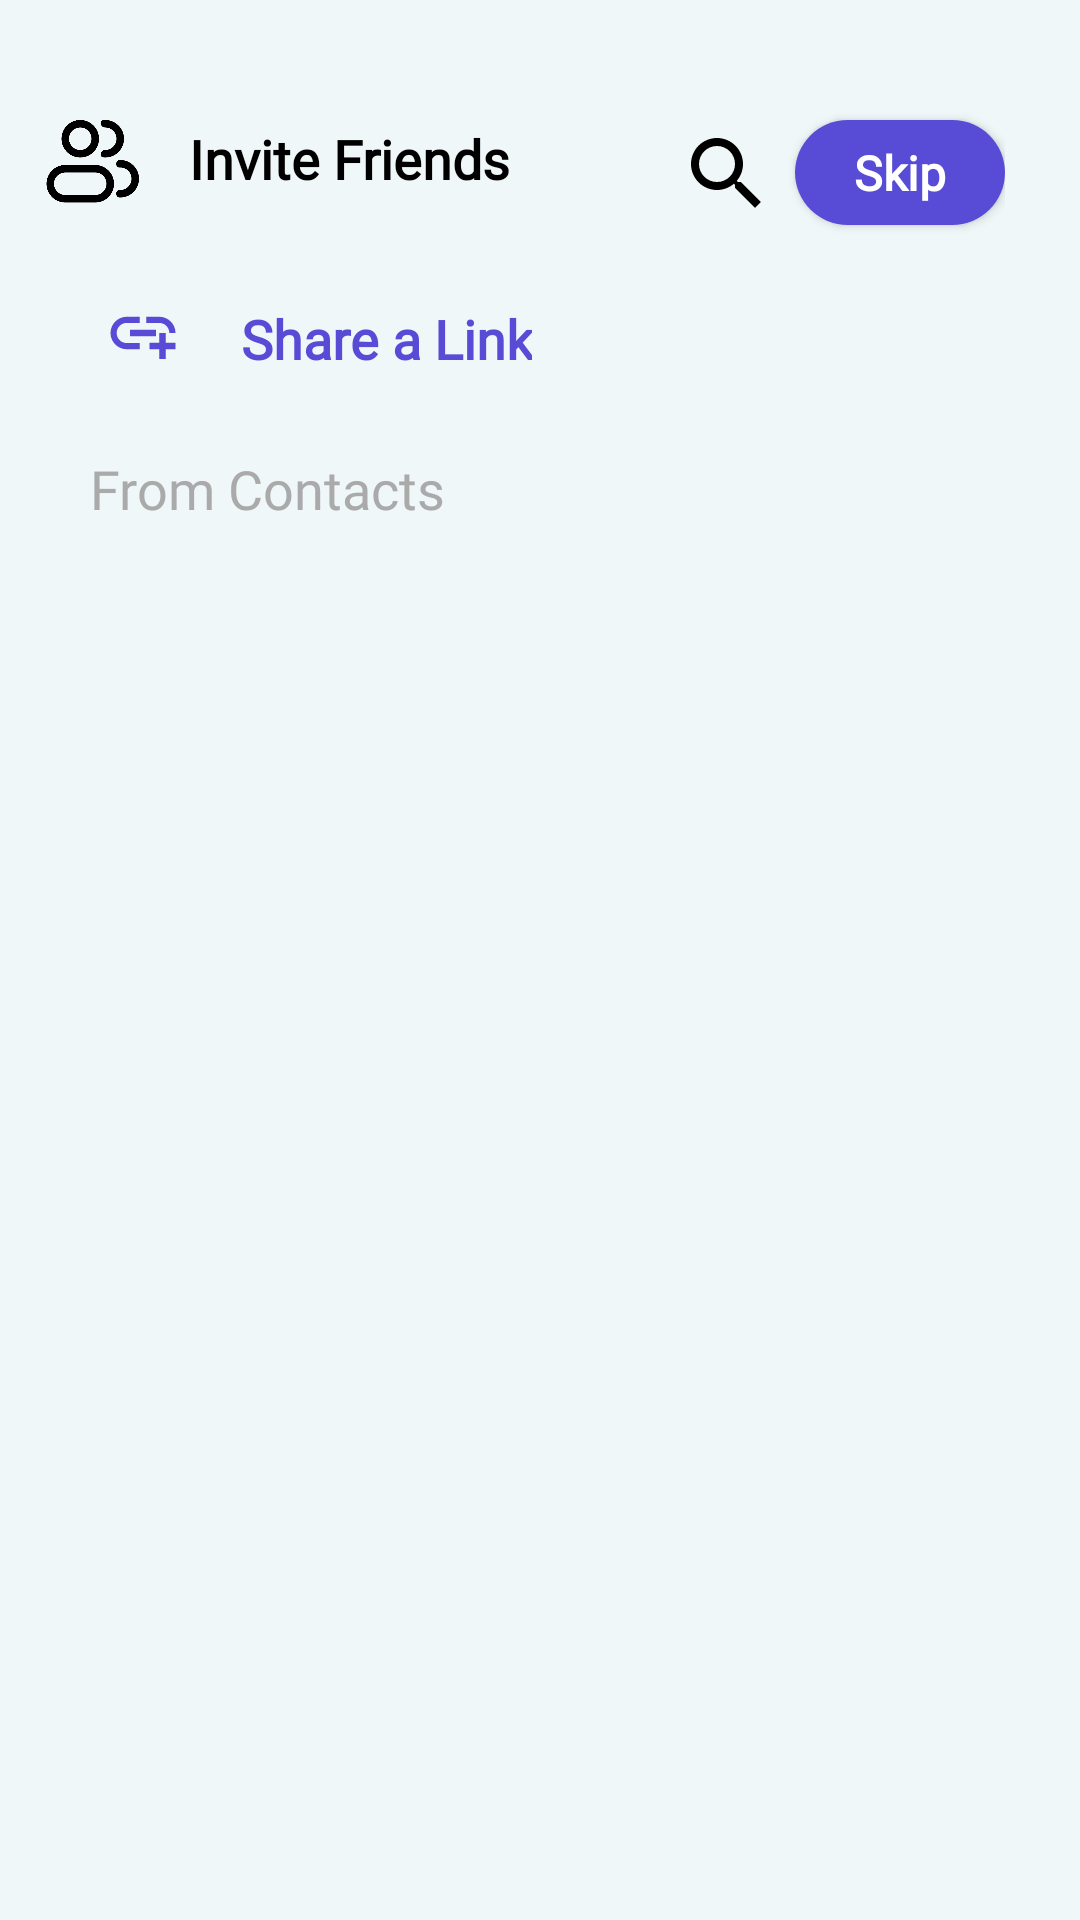

Screen size 1080x1920. Icon name, then its box in pixels as (x1, y1, x2, y2):
all search: (691, 138, 761, 208)
all share link colorsecondary: (110, 316, 176, 359)
two people: (46, 120, 139, 203)
